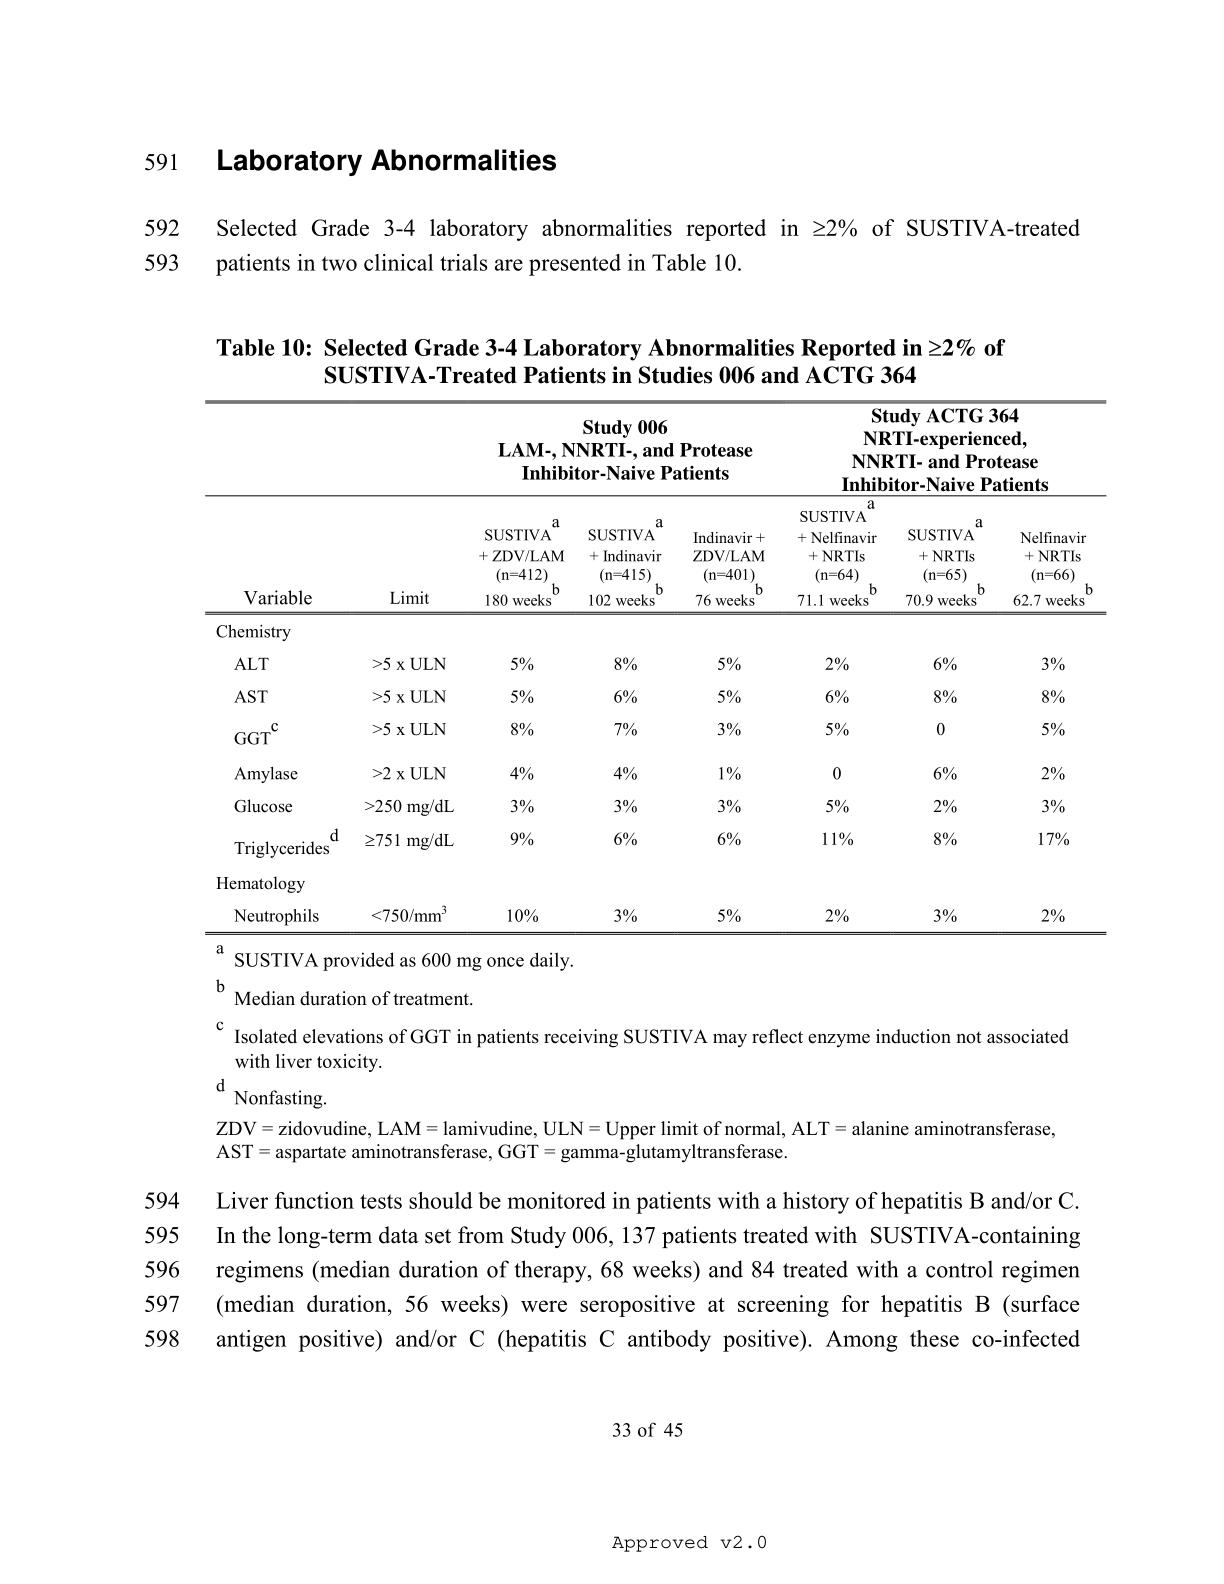partial_lined_merged_cells: (202, 399, 1107, 936)
